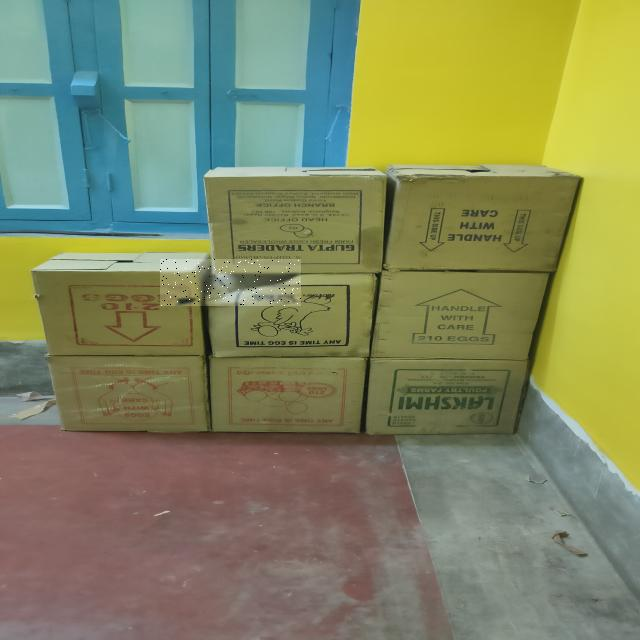squeeze: (160, 259, 301, 306)
